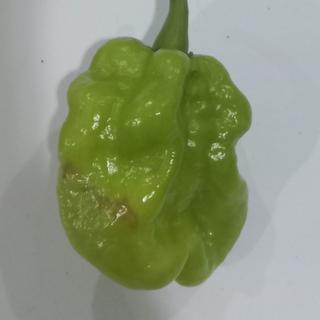Grade-A: (49, 32, 260, 292)
